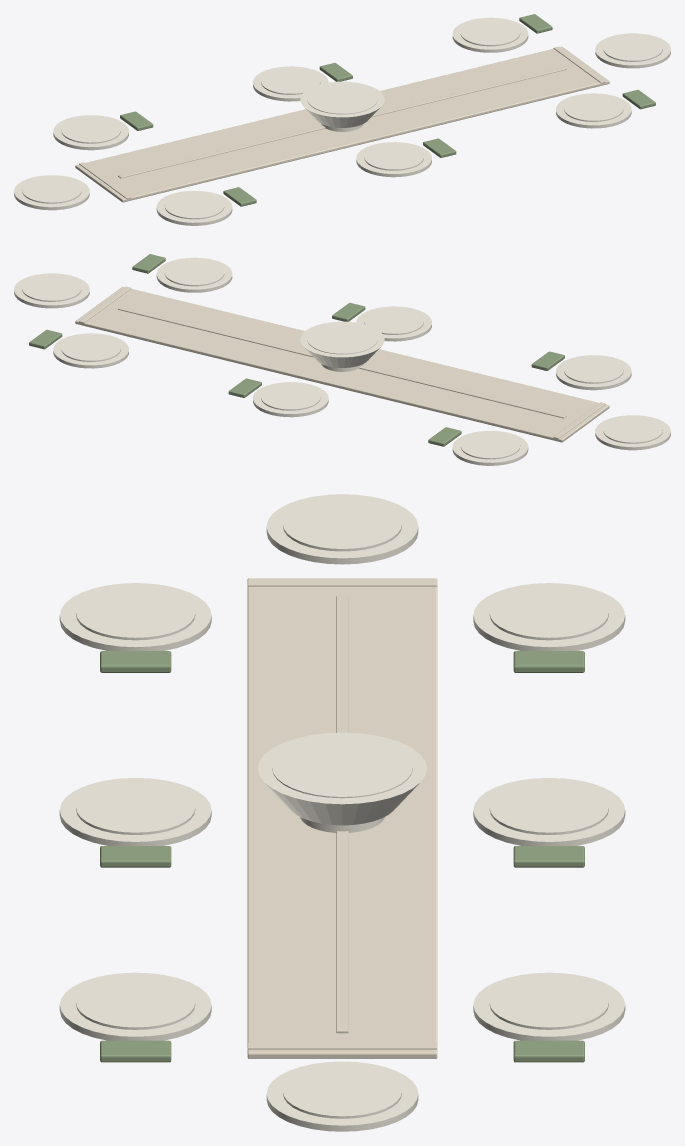
Rendered from table_setting.glb.
3 renders of one model, top to bottom at view 1: azimuth 30°, elevation 25°; view 2: azimuth 150°, elevation 25°; view 3: azimuth 270°, elevation 25°, orthographic. The views are drawn at different scales.
Parts seen in each view (by area): view 1: dining_setting_001_linen_runner, dining_setting_004_linen_centre_fold, dining_setting_029_centre_bowl_inner, dining_setting_028_centre_bowl_body, dining_setting_024_plate_well_6, dining_setting_026_plate_well_7, dining_setting_021_plate_well_5, dining_setting_006_plate_well_0, dining_setting_015_plate_well_3, dining_setting_018_plate_well_4, dining_setting_012_plate_well_2, dining_setting_009_plate_well_1 (+14 smaller); view 2: dining_setting_001_linen_runner, dining_setting_004_linen_centre_fold, dining_setting_029_centre_bowl_inner, dining_setting_028_centre_bowl_body, dining_setting_024_plate_well_6, dining_setting_026_plate_well_7, dining_setting_012_plate_well_2, dining_setting_006_plate_well_0, dining_setting_009_plate_well_1, dining_setting_015_plate_well_3, dining_setting_021_plate_well_5, dining_setting_018_plate_well_4 (+14 smaller); view 3: dining_setting_001_linen_runner, dining_setting_029_centre_bowl_inner, dining_setting_028_centre_bowl_body, dining_setting_006_plate_well_0, dining_setting_012_plate_well_2, dining_setting_015_plate_well_3, dining_setting_021_plate_well_5, dining_setting_009_plate_well_1, dining_setting_018_plate_well_4, dining_setting_026_plate_well_7, dining_setting_024_plate_well_6, dining_setting_004_linen_centre_fold (+16 smaller).
Boxes of the visible parts, x1,y1,x2,y2 form: dining_setting_001_linen_runner: (75,46,609,202); dining_setting_004_linen_centre_fold: (118,66,566,178); dining_setting_029_centre_bowl_inner: (307,84,377,114); dining_setting_028_centre_bowl_body: (300,81,384,127); dining_setting_024_plate_well_6: (22,177,81,203); dining_setting_026_plate_well_7: (603,35,662,61); dining_setting_021_plate_well_5: (564,95,623,121); dining_setting_006_plate_well_0: (61,117,120,143); dining_setting_015_plate_well_3: (164,193,224,219); dining_setting_018_plate_well_4: (364,144,423,170); dining_setting_012_plate_well_2: (460,20,520,46); dining_setting_009_plate_well_1: (261,68,320,94); dining_setting_001_linen_runner: (75,286,609,442); dining_setting_004_linen_centre_fold: (118,306,566,418); dining_setting_029_centre_bowl_inner: (307,324,377,354); dining_setting_028_centre_bowl_body: (300,321,384,367); dining_setting_024_plate_well_6: (603,417,662,443); dining_setting_026_plate_well_7: (22,275,81,301); dining_setting_012_plate_well_2: (61,335,120,361); dining_setting_006_plate_well_0: (460,433,520,459); dining_setting_009_plate_well_1: (261,384,320,410); dining_setting_015_plate_well_3: (564,357,623,383); dining_setting_021_plate_well_5: (164,260,224,286); dining_setting_018_plate_well_4: (364,308,423,334); dining_setting_001_linen_runner: (247,578,437,1058); dining_setting_029_centre_bowl_inner: (272,737,412,798); dining_setting_028_centre_bowl_body: (257,732,427,825); dining_setting_006_plate_well_0: (489,587,608,640); dining_setting_012_plate_well_2: (489,977,608,1029); dining_setting_015_plate_well_3: (76,587,195,640); dining_setting_021_plate_well_5: (76,977,195,1029); dining_setting_009_plate_well_1: (489,782,608,834); dining_setting_018_plate_well_4: (76,782,195,834); dining_setting_026_plate_well_7: (283,1066,401,1118); dining_setting_024_plate_well_6: (283,498,401,551); dining_setting_004_linen_centre_fold: (336,596,348,1033).
Bounding box in the file's own units: 2.2 × 0.0885 × 0.834.
